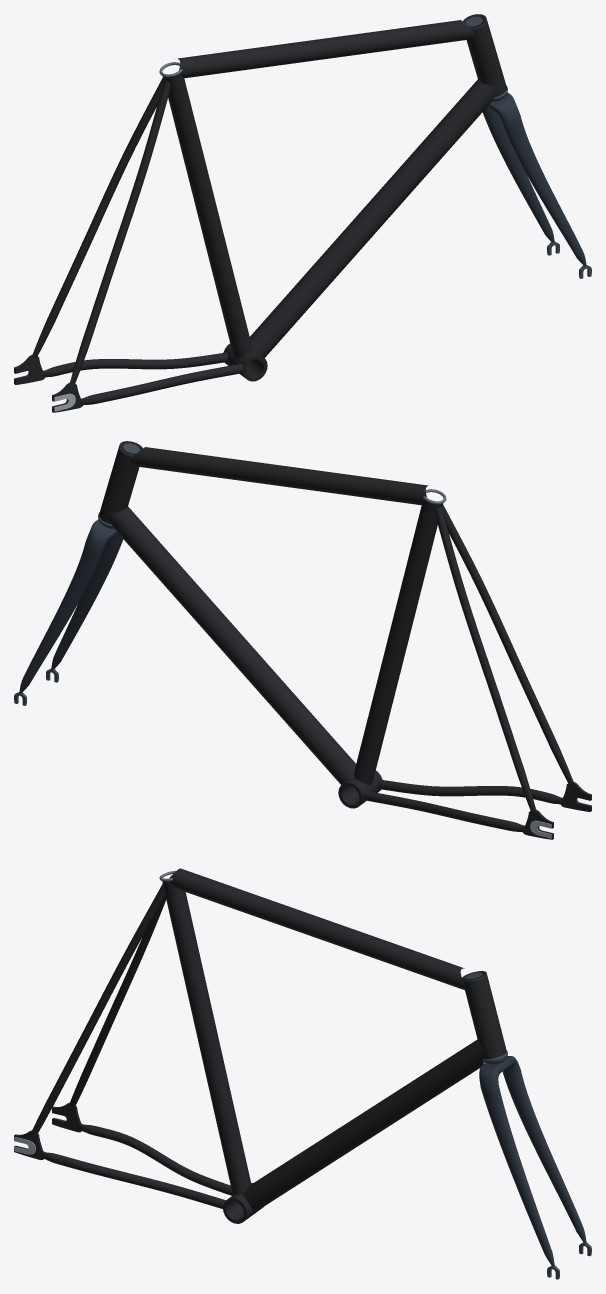
File: dosnoventa-03-det-l.glb
3 renders of one model, top to bottom at view 1: azimuth 30°, elevation 25°; view 2: azimuth 150°, elevation 25°; view 3: azimuth 330°, elevation 25°, orthographic.
Visible parts, largest first — view 1: paint_down, paint_top, paint_seat, paint_seatstay_1, paint_seatstay_-1, fork_blade_1, fork_blade_-1, paint_chainstay_-1, paint_head, paint_chainstay_1, paint_bottom_bracket, rear_dropout_-1 (+1 smaller); view 2: paint_down, paint_top, paint_seat, paint_seatstay_-1, paint_seatstay_1, fork_blade_-1, fork_blade_1, paint_chainstay_1, paint_head, paint_chainstay_-1, paint_bottom_bracket, rear_dropout_1 (+1 smaller); view 3: paint_down, paint_seat, paint_top, fork_blade_1, fork_blade_-1, paint_seatstay_1, paint_head, paint_chainstay_1, paint_seatstay_-1, paint_chainstay_-1, fork_crown, paint_bottom_bracket (+1 smaller).
Part boxes in pixels (x1,y1,x2,y2): paint_down: [250, 79, 498, 357]; paint_top: [177, 20, 474, 78]; paint_seat: [162, 74, 251, 358]; paint_seatstay_1: [70, 79, 170, 383]; paint_seatstay_-1: [32, 77, 164, 358]; fork_blade_1: [503, 116, 586, 266]; fork_blade_-1: [482, 107, 554, 242]; paint_chainstay_-1: [42, 352, 227, 377]; paint_head: [463, 14, 506, 97]; paint_chainstay_1: [80, 363, 243, 404]; paint_bottom_bracket: [223, 343, 267, 381]; rear_dropout_-1: [14, 355, 45, 384]; paint_down: [108, 506, 355, 784]; paint_top: [131, 447, 428, 505]; paint_seat: [354, 501, 443, 785]; paint_seatstay_-1: [435, 506, 536, 810]; paint_seatstay_1: [441, 504, 573, 785]; fork_blade_-1: [19, 543, 102, 693]; fork_blade_1: [51, 534, 123, 669]; paint_chainstay_1: [378, 779, 563, 804]; paint_head: [99, 441, 142, 524]; paint_chainstay_-1: [362, 790, 525, 831]; paint_bottom_bracket: [338, 770, 382, 808]; rear_dropout_1: [560, 782, 591, 811]; paint_down: [242, 1039, 485, 1211]; paint_seat: [162, 881, 251, 1194]; paint_top: [169, 868, 464, 989]; fork_blade_1: [481, 1085, 554, 1266]; fork_blade_-1: [502, 1069, 586, 1243]; paint_seatstay_1: [32, 884, 165, 1133]; paint_head: [462, 971, 506, 1059]; paint_chainstay_1: [40, 1152, 225, 1208]; paint_seatstay_-1: [69, 896, 166, 1106]; paint_chainstay_-1: [78, 1124, 232, 1195]; fork_crown: [479, 1056, 520, 1088]; paint_bottom_bracket: [223, 1183, 263, 1223].
Size of the model in its own units: 1.03 by 0.6015 by 0.1443.
